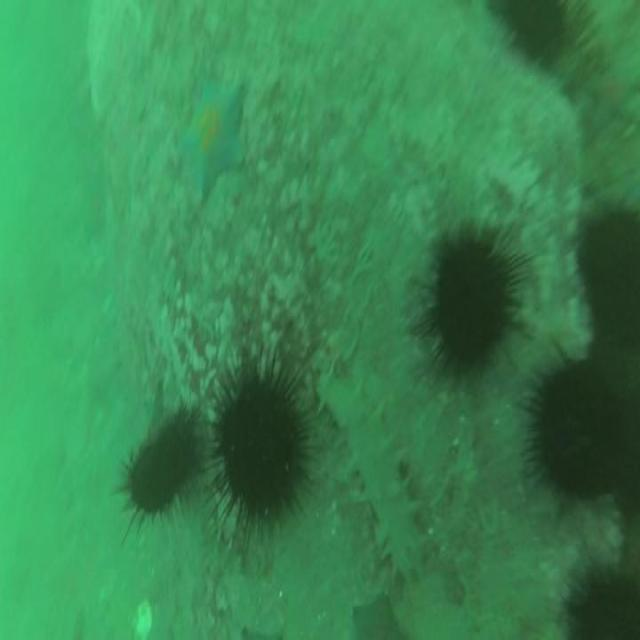echinus: (208, 352, 311, 558), (413, 218, 530, 390), (523, 345, 629, 515), (569, 194, 640, 363), (114, 409, 194, 552), (484, 0, 572, 76), (562, 561, 640, 640)
holothurian: (308, 349, 432, 594)
starfish: (179, 74, 249, 204)
